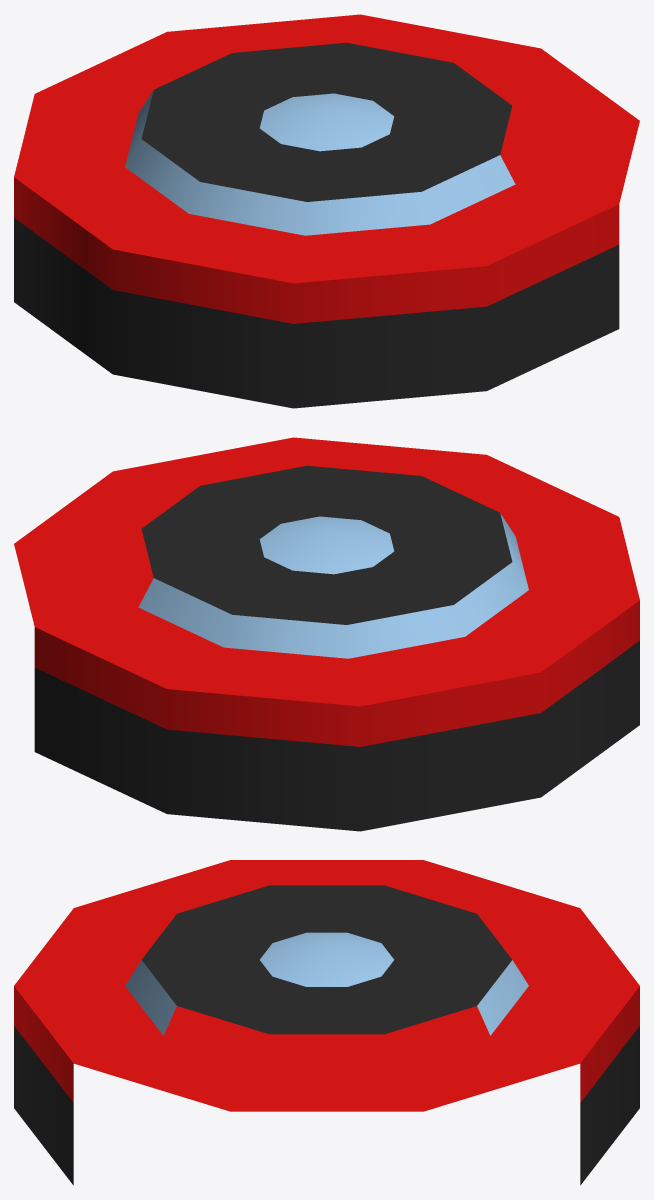
Rendered from interior_E_008.fbx.
3 renders of one model, top to bottom at view 1: azimuth 30°, elevation 25°; view 2: azimuth 150°, elevation 25°; view 3: azimuth 270°, elevation 25°, orthographic. The views are drawn at different scales.
Visible parts, largest first — view 1: interior_E_008; view 2: interior_E_008; view 3: interior_E_008.
Part boxes in pixels (box(x1,y1,x2,y2)): interior_E_008: box(14, 14, 639, 408); interior_E_008: box(14, 437, 639, 831); interior_E_008: box(14, 860, 639, 1185).
Size of the model in its own units: 46.21 by 14.05 by 48.59.
